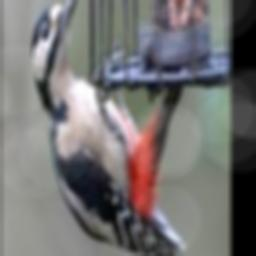Woodpecker: (31, 0, 185, 256)
